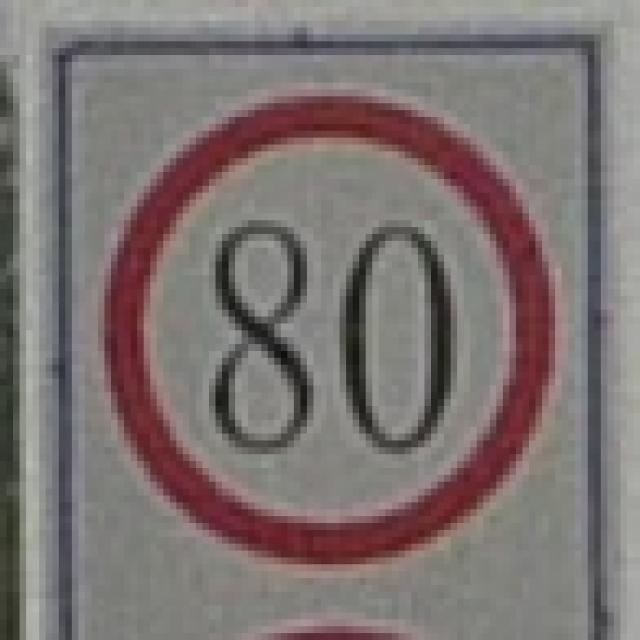Speed Limit -80-: (208, 217, 461, 456)
